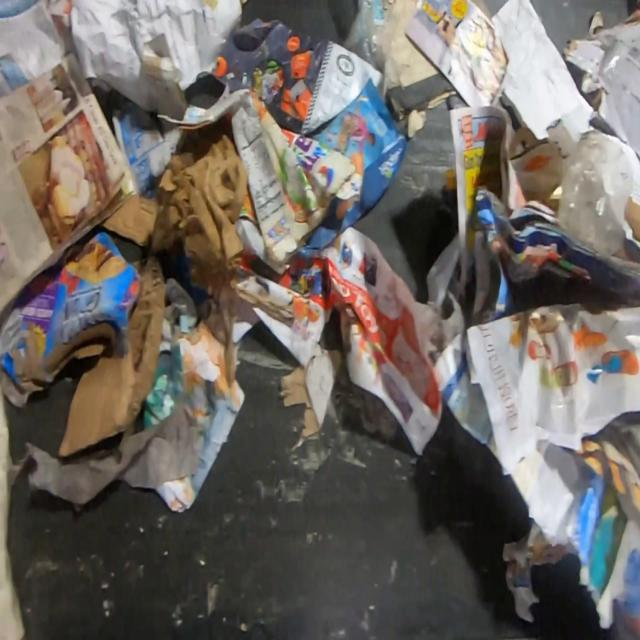cardboard: (0, 225, 167, 459), (101, 129, 248, 291)
soft_plastic: (556, 128, 640, 272), (340, 1, 404, 104), (598, 24, 639, 163)
